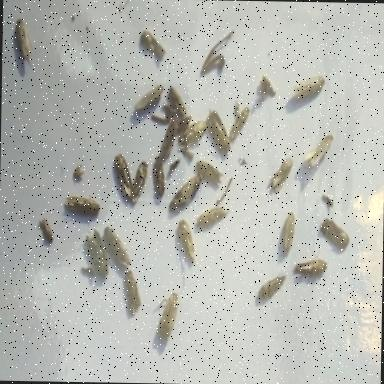pbw: (152, 290, 182, 348), (102, 223, 136, 274), (80, 226, 112, 280), (109, 152, 138, 210), (168, 172, 204, 218), (58, 194, 104, 228), (205, 104, 234, 155), (174, 118, 210, 156), (121, 269, 146, 322), (300, 132, 334, 170), (172, 217, 198, 266), (316, 215, 352, 250), (130, 82, 166, 116), (290, 74, 326, 108), (158, 114, 181, 164), (194, 202, 231, 233), (127, 158, 149, 210), (266, 156, 294, 196), (289, 254, 328, 282), (256, 272, 288, 306), (149, 154, 169, 208), (14, 16, 34, 68), (195, 158, 225, 190), (278, 210, 298, 258), (227, 104, 251, 144), (140, 30, 168, 63), (167, 86, 188, 121), (34, 218, 56, 249), (172, 113, 193, 141), (258, 74, 278, 100)
